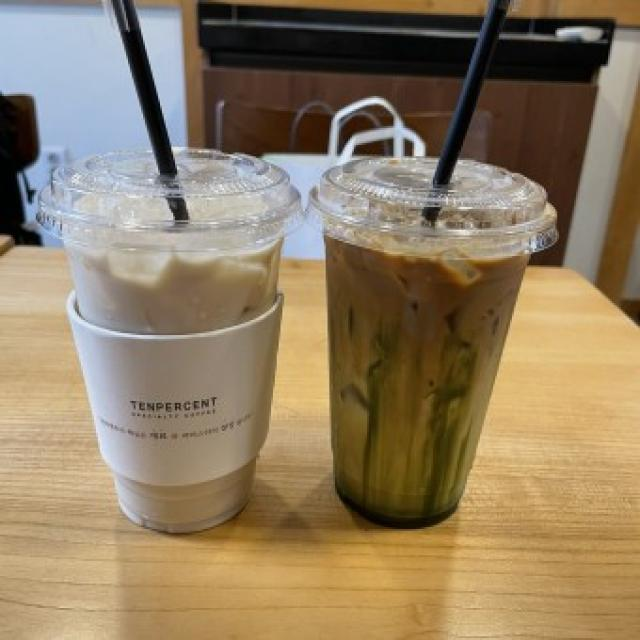cup: (19, 128, 297, 541), (302, 145, 582, 536)
